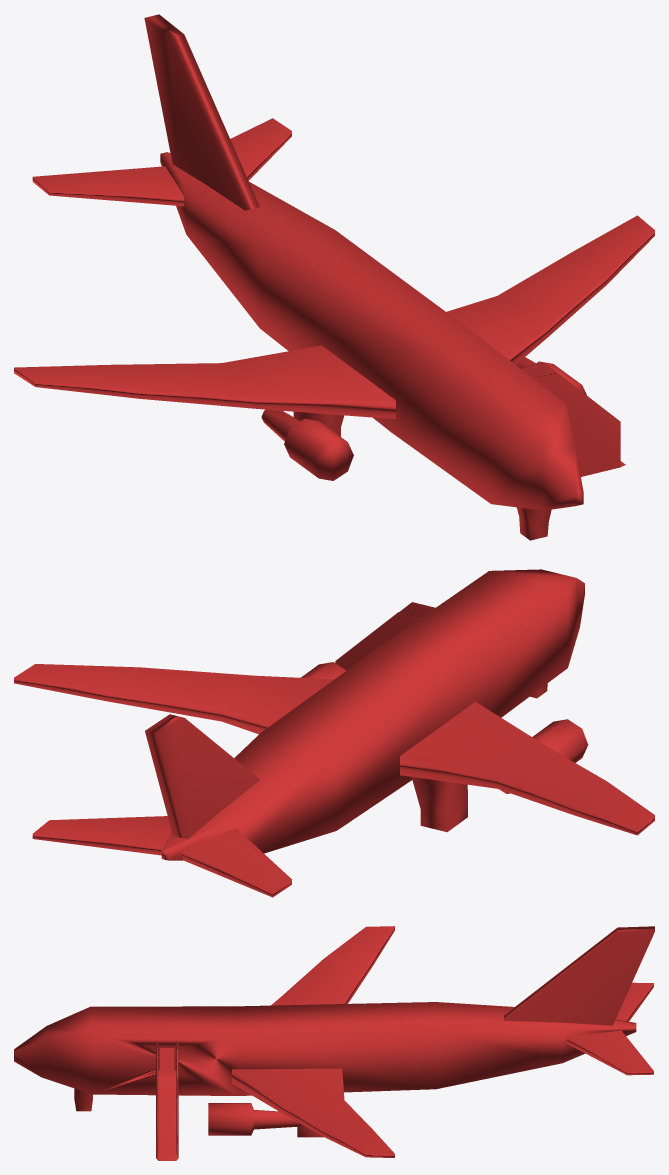
Rendered from kabinenbrand_colmesh.fbx.
3 views of the same model, one above another, from view 1: azimuth 30°, elevation 25°; view 2: azimuth 150°, elevation 25°; view 3: azimuth 270°, elevation 25° (orthographic). The views are drawn at different scales.
Visible parts, largest first — view 1: Mesh; view 2: Mesh; view 3: Mesh.
Boxes of the visible parts, x1,y1,x2,y2 form: Mesh: [14, 14, 654, 540]; Mesh: [14, 569, 654, 897]; Mesh: [14, 926, 654, 1160].
Bounding box in the file's own units: 4408 × 1626 × 5245.
